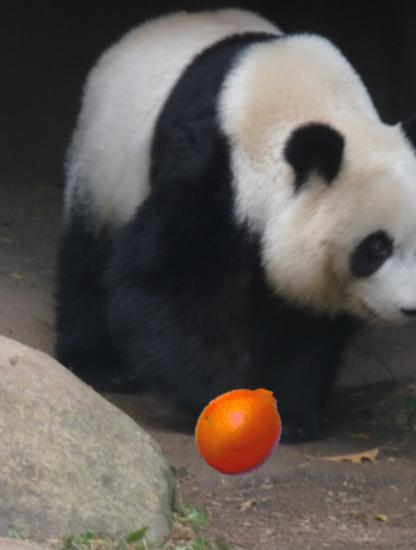Tangelo: (193, 381, 290, 478)
